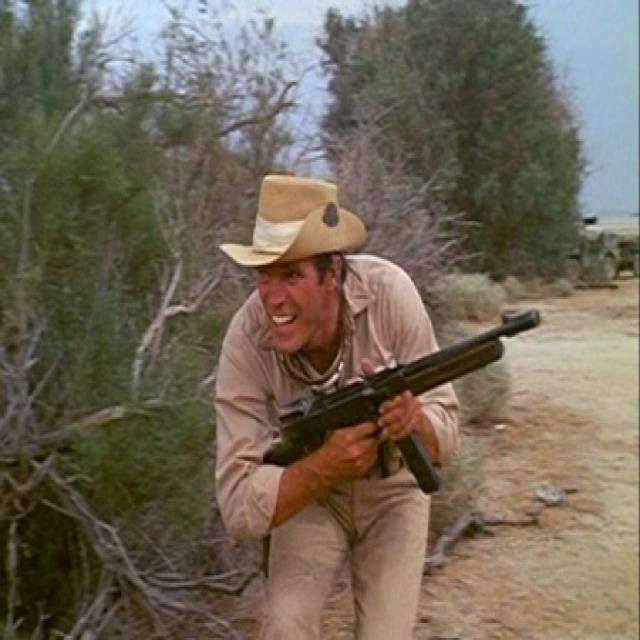rifle: (273, 306, 543, 497)
